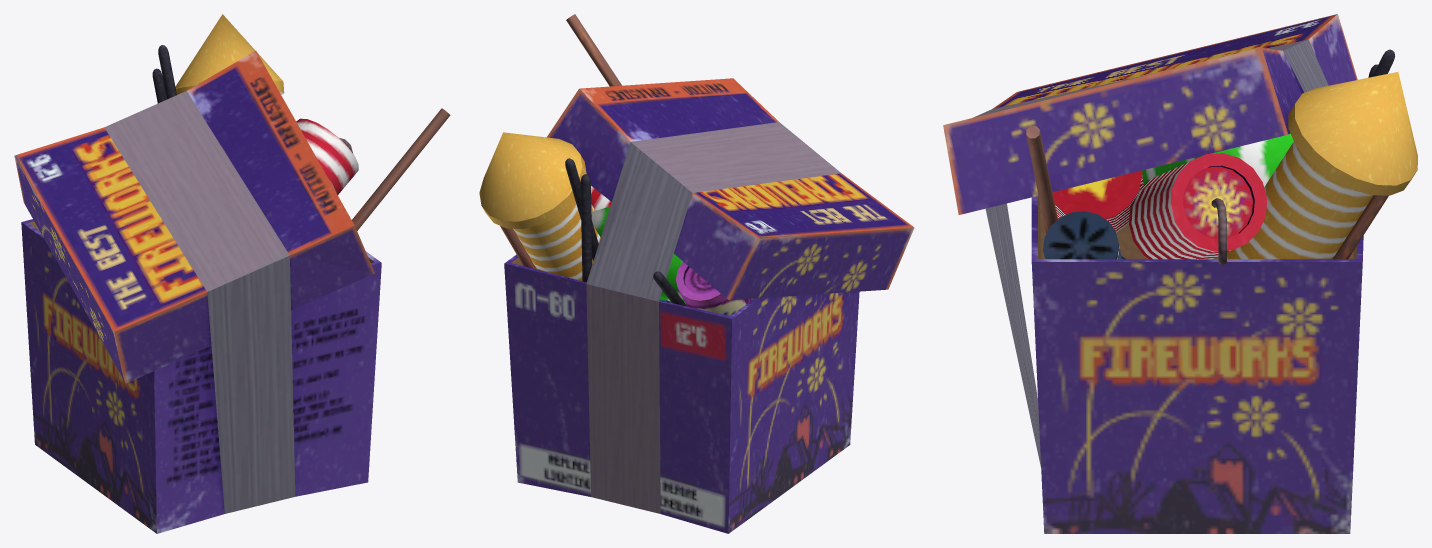
File: Magnesium.glb
The picture shows the model from 3 angles, left to right: view 1: azimuth 30°, elevation 25°; view 2: azimuth 150°, elevation 25°; view 3: azimuth 270°, elevation 25°; orthographic projection. The views are drawn at different scales.
Parts seen in each view (by area): view 1: fireworks; view 2: fireworks; view 3: fireworks.
Boxes of the visible parts, x1,y1,x2,y2 form: fireworks: (14,14,450,533); fireworks: (479,14,914,533); fireworks: (943,14,1417,533).
Bounding box in the file's own units: 2.99 × 3.14 × 2.87.
Materials: 1 (1 with a texture image).
